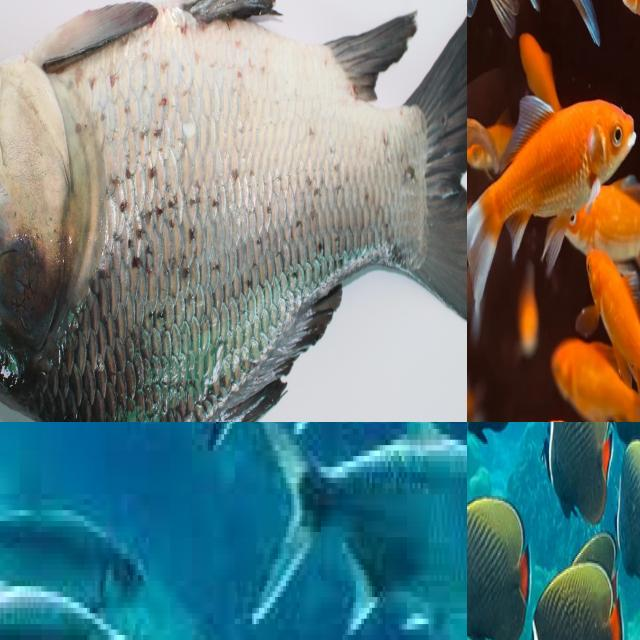fish: (0, 0, 467, 422), (467, 50, 640, 284)
